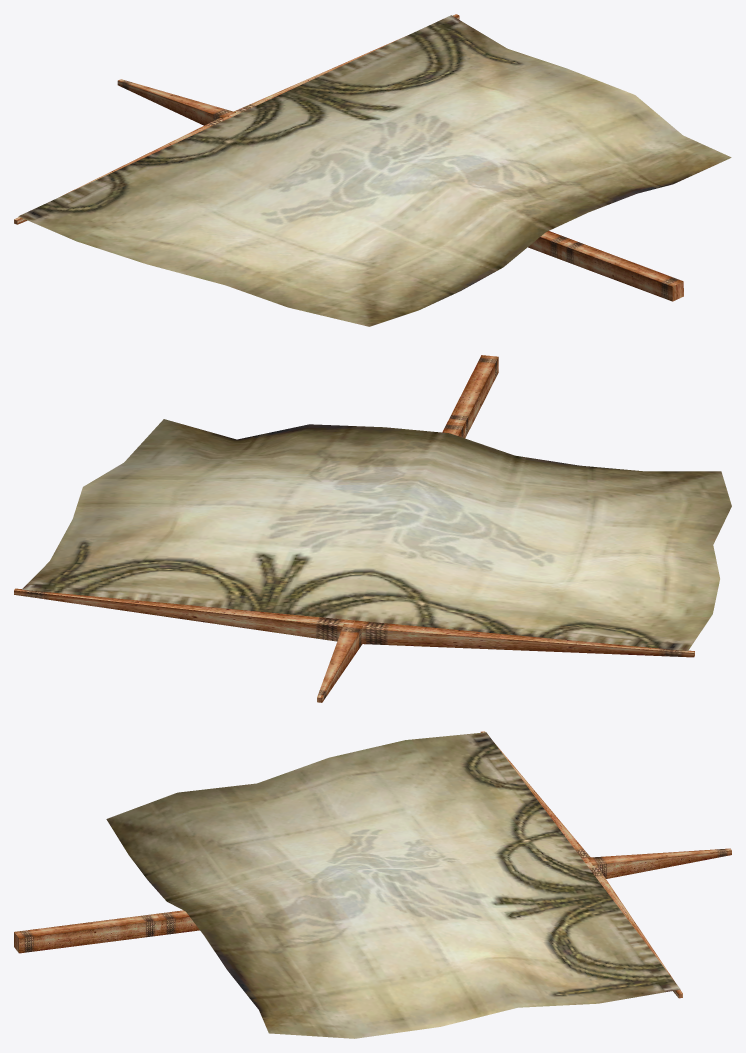
The model's file is shipwreck_sail.dae.
3 views of the same model, one above another, from view 1: azimuth 30°, elevation 25°; view 2: azimuth 150°, elevation 25°; view 3: azimuth 270°, elevation 25° (orthographic). The views are drawn at different scales.
Parts seen in each view (by area): view 1: Plane_02; view 2: Plane_02; view 3: Plane_02.
Part boxes in pixels (x1,y1,x2,y2): Plane_02: [14, 14, 731, 326]; Plane_02: [14, 355, 731, 702]; Plane_02: [14, 731, 731, 1038].
Bounding box in the file's own units: 17.03 × 1.2 × 17.5.
